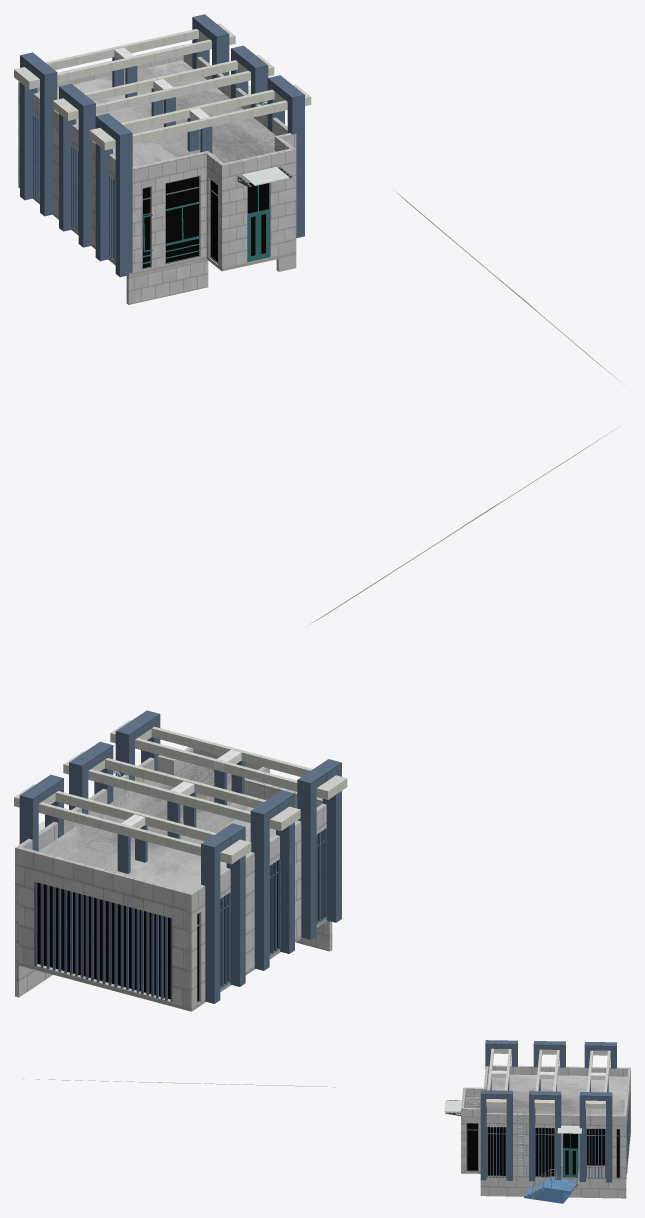
Rendered from 内闸首模型.fbx.
3 renders of one model, top to bottom at view 1: azimuth 30°, elevation 25°; view 2: azimuth 150°, elevation 25°; view 3: azimuth 270°, elevation 25°, orthographic. The views are drawn at different scales.
Visible parts, largest first — view 1: 深灰色石材 (×2), 浅灰色石材 (×7), 浅米色石材, 涂料 - 浅灰色 (×2), 玻璃 (×5), 铝; view 2: 深灰色石材 (×2), 浅灰色石材 (×4), 浅米色石材, 涂料 - 浅灰色 (×2), Box002; view 3: 浅灰色石材 (×4), 深灰色石材 (×2), 涂料 - 浅灰色, 玻璃 (×5), 浅米色石材, Plane001, 铝.
Part boxes in pixels (x1,y1,x2,y2): 深灰色石材 (×2): [20, 14, 304, 277]; 浅灰色石材 (×7): [18, 44, 623, 384]; 浅米色石材: [14, 23, 311, 150]; 涂料 - 浅灰色 (×2): [18, 60, 296, 276]; 玻璃 (×5): [143, 166, 289, 267]; 铝: [247, 182, 270, 262]; 深灰色石材 (×2): [19, 710, 341, 1003]; 浅灰色石材 (×4): [15, 426, 619, 1008]; 浅米色石材: [14, 720, 347, 864]; 涂料 - 浅灰色 (×2): [15, 764, 327, 1011]; Box002: [37, 882, 170, 999]; 浅灰色石材 (×4): [23, 1065, 630, 1198]; 深灰色石材 (×2): [480, 1040, 616, 1182]; 涂料 - 浅灰色: [464, 1074, 627, 1115]; 玻璃 (×5): [467, 1123, 604, 1176]; 浅米色石材: [486, 1048, 610, 1108]; Plane001: [524, 1178, 577, 1203]; 铝: [562, 1133, 578, 1177].
Size of the model in its own units: 488 by 339 by 1809.
